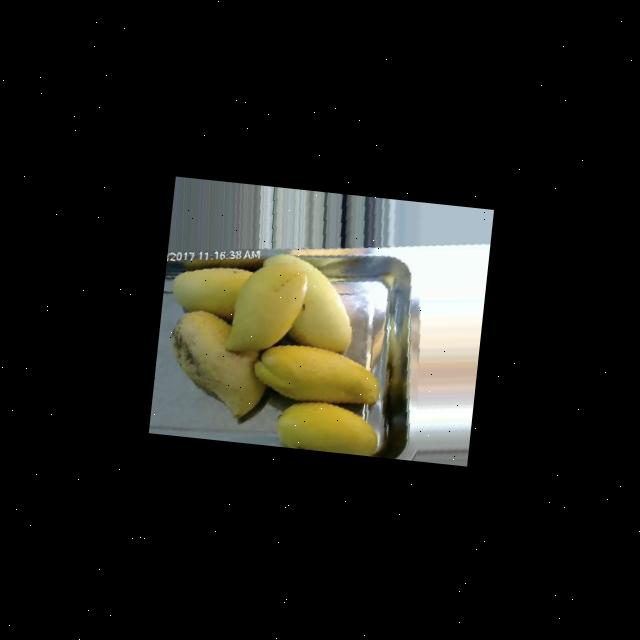Mango: (156, 240, 396, 454), (162, 306, 271, 420), (252, 250, 358, 352), (249, 338, 382, 406), (222, 256, 308, 356), (273, 396, 379, 454), (167, 260, 252, 320)
